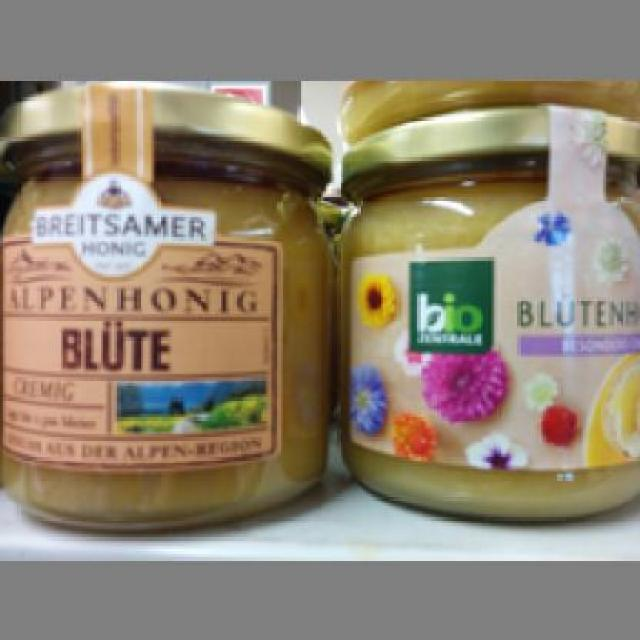Honey: (0, 83, 335, 527), (340, 106, 637, 520)
